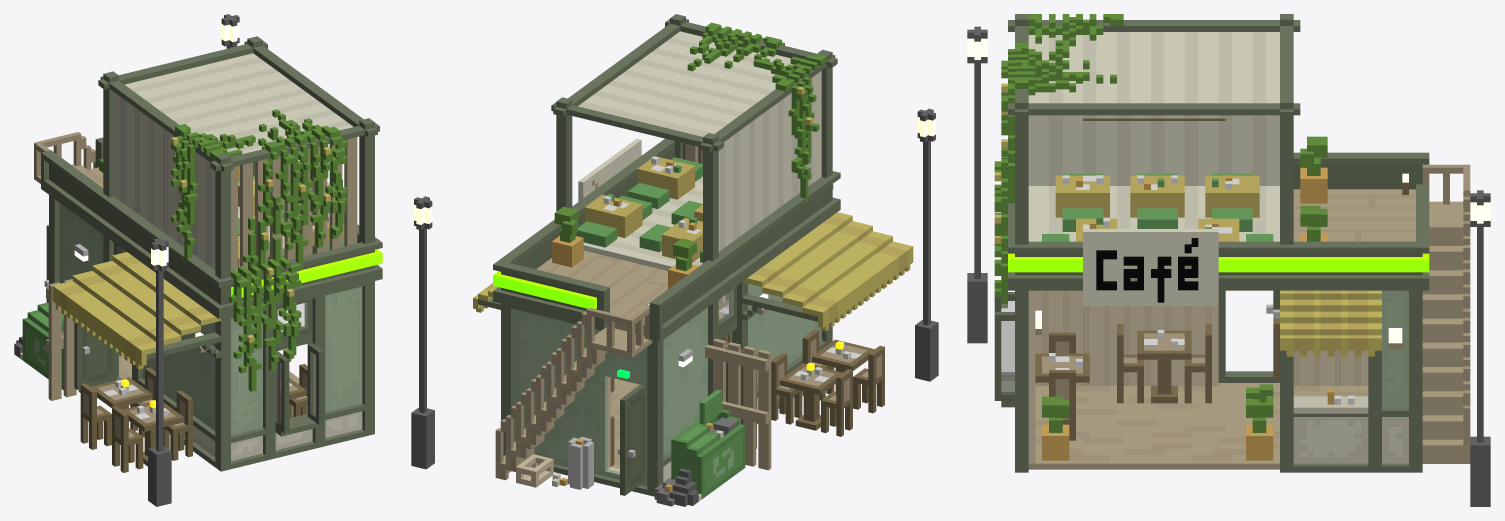
Rendered from coffeeShop.glb.
3 renders of one model, left to right at view 1: azimuth 30°, elevation 25°; view 2: azimuth 150°, elevation 25°; view 3: azimuth 270°, elevation 25°, orthographic. The views are drawn at different scales.
Visible parts, largest first — view 1: VoxTransform; view 2: VoxTransform; view 3: VoxTransform.
Boxes of the visible parts, x1,y1,x2,y2 form: VoxTransform: [14, 14, 382, 506]; VoxTransform: [411, 14, 938, 506]; VoxTransform: [967, 14, 1490, 506].
Size of the model in its own units: 60 by 60 by 77.
